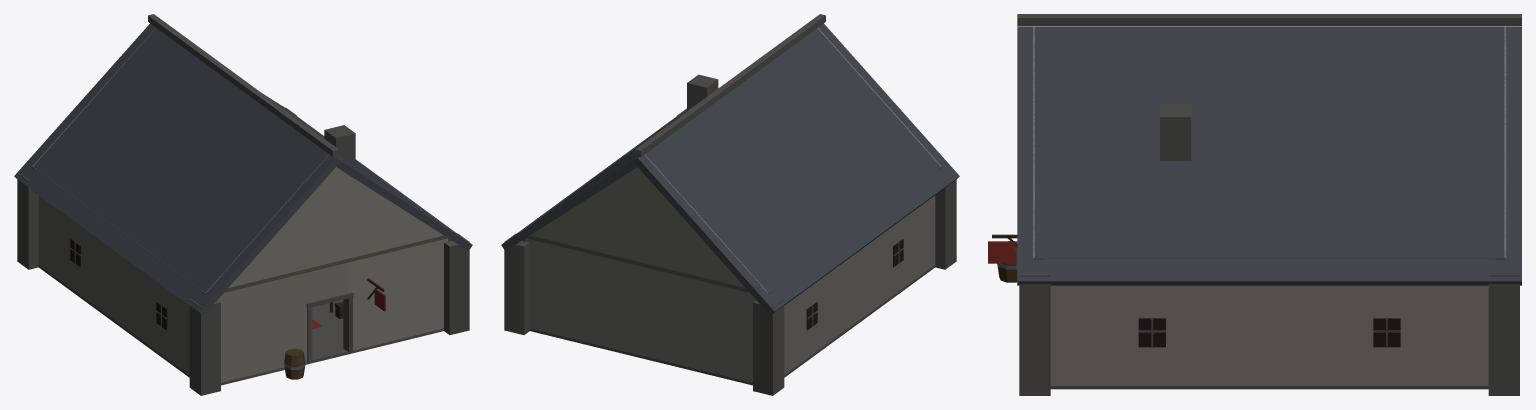
The model's file is walk_freehold_tavern.glb.
The picture shows the model from 3 angles, left to right: view 1: azimuth 30°, elevation 25°; view 2: azimuth 150°, elevation 25°; view 3: azimuth 270°, elevation 25°; orthographic projection. The views are drawn at different scales.
Parts seen in each view (by area): view 1: walk_freehold_tavern_roof, walk_freehold_tavern; view 2: walk_freehold_tavern_roof, walk_freehold_tavern; view 3: walk_freehold_tavern_roof, walk_freehold_tavern.
Boxes of the visible parts, x1,y1,x2,y2 form: walk_freehold_tavern_roof: (14, 14, 472, 315); walk_freehold_tavern: (17, 105, 469, 395); walk_freehold_tavern_roof: (501, 14, 959, 315); walk_freehold_tavern: (504, 108, 956, 395); walk_freehold_tavern_roof: (1017, 14, 1521, 285); walk_freehold_tavern: (988, 234, 1519, 395).
Size of what is drawn, in the model's own units: 11 by 8.2 by 13.65.
Materials: 2 (2 with a texture image).
